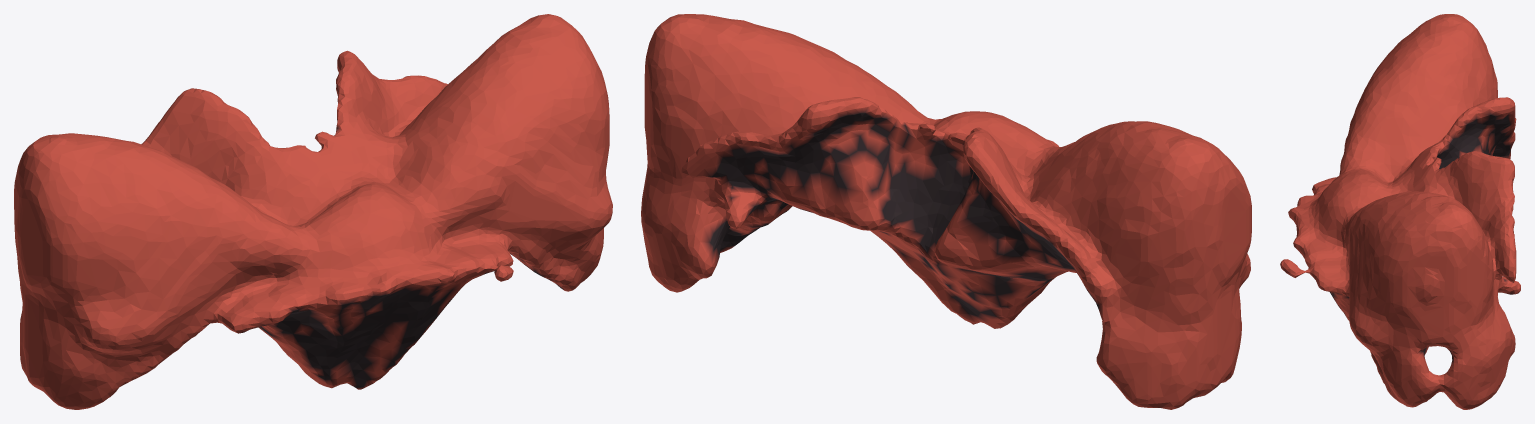
Rendered from bow.glb.
3 views of the same model, side by side, from view 1: azimuth 30°, elevation 25°; view 2: azimuth 150°, elevation 25°; view 3: azimuth 270°, elevation 25° (orthographic). The views are drawn at different scales.
Parts seen in each view (by area): view 1: geometry_0; view 2: geometry_0; view 3: geometry_0.
Boxes of the visible parts, x1,y1,x2,y2 form: geometry_0: (14, 14, 612, 409); geometry_0: (641, 14, 1251, 409); geometry_0: (1280, 14, 1520, 409).
Bounding box in the file's own units: 0.7832 × 0.3681 × 0.3628.
